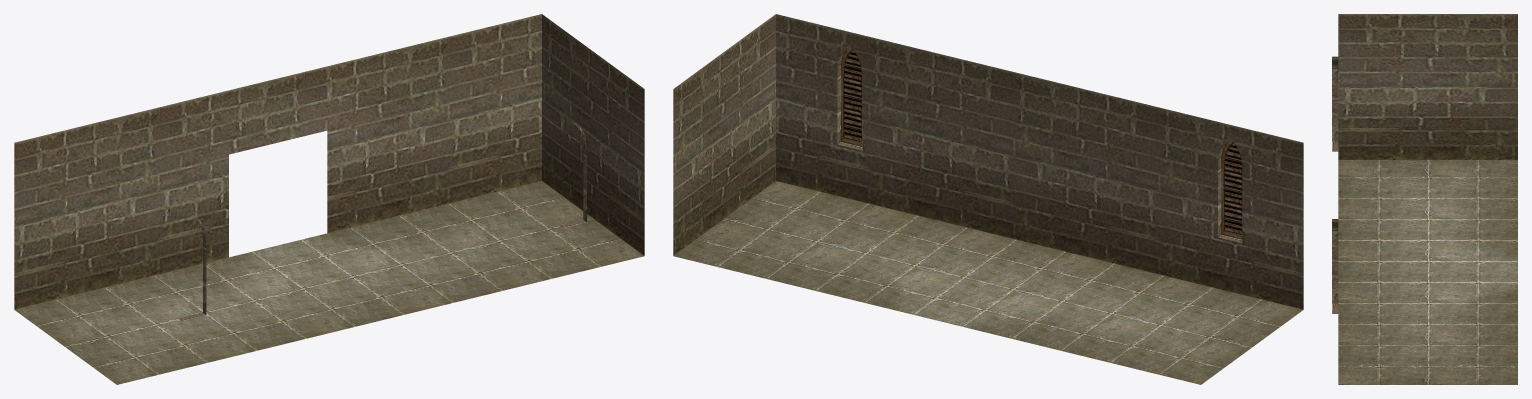
Rendered from Mission8_VillageRadioShackInt_B.glb.
The picture shows the model from 3 angles, left to right: view 1: azimuth 30°, elevation 25°; view 2: azimuth 150°, elevation 25°; view 3: azimuth 270°, elevation 25°; orthographic projection. The views are drawn at different scales.
Visible parts, largest first — view 1: MISSION8_VILLAGERADIOSHACKINT_B; view 2: MISSION8_VILLAGERADIOSHACKINT_B; view 3: MISSION8_VILLAGERADIOSHACKINT_B.
Part boxes in pixels (bbox=[...]): MISSION8_VILLAGERADIOSHACKINT_B: bbox=[14, 14, 644, 384]; MISSION8_VILLAGERADIOSHACKINT_B: bbox=[673, 14, 1303, 384]; MISSION8_VILLAGERADIOSHACKINT_B: bbox=[1332, 14, 1517, 384].
Bounding box in the file's own units: 10.75 × 3.25 × 3.75.
Materials: 4 (4 with a texture image).
